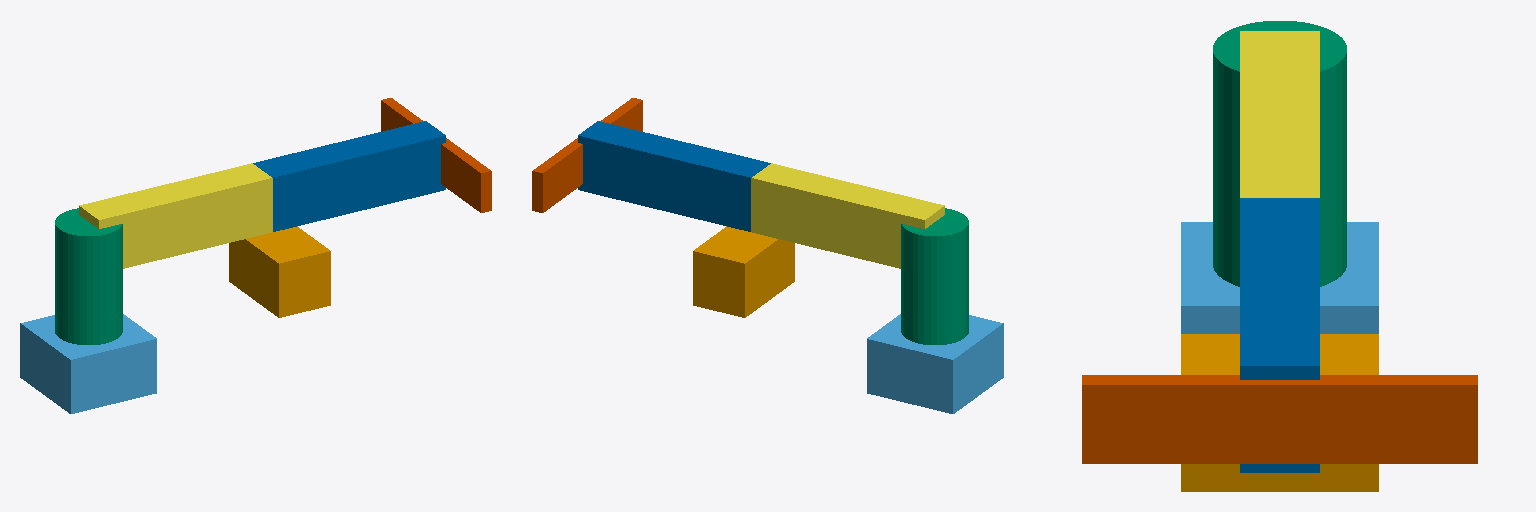
robot.urdf — robot:
<?xml version="1.0"?>
<robot name="robot" xmlns:xacro="http://www.ros.org/wiki/xacro">

  <!-- Used for fixing robot to Gazebo 'base_link' -->
  <link name="world"/>

 <!-- ARM DEFINITION STARTS HERE -->
  <!-- Joint: This will attach the arm to the base_link -->
  <joint name="world_to_base" type="fixed">
    <origin rpy="0 0 0" xyz="0 0 0"/>
    <parent link="world"/>
    <child  link="base_link"/>
  </joint>

    <!-- base of the arm -->
    <link name="base_link">
        <inertial>
            <mass value="0.05"/>
            <origin rpy="0 0 0" xyz="0 0 0"/>
            <inertia ixx="0.000021667" ixy="0" ixz="0" iyy="0.000021667" iyz="0" izz="0.000021667"/>
        </inertial>
        <collision>
            <origin rpy="0 0 0 " xyz="0 0 0.015" />
            <geometry>
                <box size="0.05 0.05 0.03" />
            </geometry>
        </collision>
        <visual>
            <origin rpy="0 0 0 " xyz="0 0 0.015" />
            <geometry>
                <box size="0.05 0.05 0.03" />
            </geometry>
        </visual>
    </link>
    <gazebo reference="base_link"> <!--Color for the arm_link_01 -->
      <material>Gazebo/Red</material>
    </gazebo>




    <!--Joint between base and link 1 -->
    <joint name="arm_joint_01" type="revolute">
        <axis xyz="0 0 1"/>
        <limit effort="1000.0" lower="-3.14" upper="3.14" velocity="0.2"/>
        <origin rpy="0 0 0" xyz="0 0 0.03"/>
        <parent link="base_link"/>
        <child link="arm_link_01"/>
    </joint>
    <!-- First link of the arm -->
    <link name="arm_link_01">
         <inertial>
            <mass value="0.0025"/>
            <origin rpy="0 0 0" xyz="0.0 0 0.0"/>
            <inertia ixx="0.0000050279" ixy="0" ixz="0" iyy="0.0000050279" iyz="0" izz="0.0000035225"/>
        </inertial>
        <collision>
            <origin rpy="0 0 0 " xyz="0 0 0.03" />
            <geometry>
                <cylinder radius="0.017" length="0.06"/>
            </geometry>
        </collision>
        <visual>
            <origin rpy="0 0 0 " xyz="0 0 0.03" />
            <geometry>
                <cylinder radius="0.017" length="0.06"/>
            </geometry>
        </visual>
    </link>
    <gazebo reference="arm_link_01"> <!--Color for the arm_link_01 -->
      <material>Gazebo/Orange</material>
    </gazebo>

    <!-- Joint 02: between link1 and link2  -->
    <joint name="arm_joint_02" type="revolute">
        <axis xyz="0 0 1"/>
        <limit effort="10000.0" lower="-0.1" upper="1.5707" velocity="0.2"/>
        <origin rpy="1.5707 0 0" xyz="0 0 0.05"/>
        <parent link="arm_link_01"/>
        <child link="arm_link_02"/>
    </joint>
    <!-- Second link of the arm -->
    <link name="arm_link_02">
         <inertial>
            <mass value="0.0025"/>
            <origin rpy="0 0 0" xyz="0.0 0 0.0"/>
            <inertia ixx="0.0000050279" ixy="0" ixz="0" iyy="0.0000050279" iyz="0" izz="0.0000035225"/>
        </inertial>
        <collision>
            <origin rpy="0 0 0 " xyz="0.05 0 0.0" />
            <geometry>
                <box size="0.1 0.03 0.02" />
            </geometry>
        </collision>
        <visual>
            <origin rpy="0 0 0 " xyz="0.05 0 0.0" />
            <geometry>
                <box size="0.1 0.03 0.02" />
            </geometry>
        </visual>
    </link>
    <gazebo reference="arm_link_02"> <!--Color for the arm_link_01 -->
      <material>Gazebo/Orange</material>
    </gazebo>

<!-- Joint 3: between link2 and link3 -->
    <joint name="arm_joint_03" type="revolute">
        <axis xyz="0  0  1"/>
        <limit effort="10000.0" lower="-0.1" upper="1.5707" velocity="0.2"/>
        <origin rpy="0 0 0" xyz="0.1 0 0"/>
        <parent link="arm_link_02"/>
        <child link="arm_link_03"/>
    </joint>

    <!-- 3rd link of the arm -->
    <link name="arm_link_03">
         <inertial>
            <mass value="0.0025"/>
            <origin rpy="0 0 0" xyz="0.0 0 0.0"/>
            <inertia ixx="0.0000050279" ixy="0" ixz="0" iyy="0.0000050279" iyz="0" izz="0.0000035225"/>
        </inertial>
        <collision>
            <origin rpy="0 0 0 " xyz="0.05 0 0" />
            <geometry>
                <box size="0.1 0.03 0.02" />
            </geometry>
        </collision>
        <visual>
            <origin rpy="0 0 0 " xyz="0.05 0 0" />
            <geometry>
                <box size="0.1 0.03 0.02" />
            </geometry>
        </visual>
    </link>
    <gazebo reference="arm_link_03"> <!--Color for the arm_link_01 -->
      <material>Gazebo/Orange</material>
    </gazebo>

    <!-- Joint 4: between link3 and link4 -->
    <joint name="arm_joint_04" type="revolute">
        <axis xyz="0 0 1"/>
        <limit effort="10000.0" lower="-1.8" upper="1.8" velocity="0.5"/>
        <origin rpy="0 1.570796 0" xyz="0.1 0 0.0"/>
        <parent link="arm_link_03"/>
        <child link="arm_link_04"/>
    </joint>

    <!-- Fourth link of the arm (base of the gripper)-->
    <link name="arm_link_04">
         <inertial>
            <mass value="0.0025"/>
            <origin rpy="0 0 0" xyz="0.0 0 0.0"/>
            <inertia ixx="0.0000050279" ixy="0" ixz="0" iyy="0.0000050279" iyz="0" izz="0.0000035225"/>
        </inertial>
        <collision>
            <origin rpy="0 0 0 " xyz="0 0 0.0" />
            <geometry>
                <box size="0.08 0.04 0.02  " />
            </geometry>
        </collision>
        <visual>
            <origin rpy="0 0 0 " xyz="0 0 0.00" />
            <geometry>
                 <box size="0.1 0.022 0.006 " />
            </geometry>
        </visual>
    </link>
    <gazebo reference="arm_link_04"> <!--Color for the arm_link_01 -->
      <material>Gazebo/Black</material>
    </gazebo>



<!-- GRIPPER STARTS HERE -->
 <!--  right Grip joint sub -->
  <joint name="right_grip_joint" type="prismatic">
    <parent link="arm_link_04"/>
    <child link="right_grip_link"/>
    <origin  xyz="0.0 0 0" rpy="0 -1.570796 0"/>
    <axis xyz="0 0 1"/>
    <limit velocity="0.4" effort="100000" lower="0" upper="0.05" />
  </joint>
  <!--  right Grip link sub -->
  <link name="right_grip_link">
    <collision>
  <origin xyz="0 0 0.005" rpy="1.5707 3.14159 3.14159"/>
      <geometry>
        <mesh filename="package://two_wheels_description/meshes/chain_link_grip_r.stl" scale="0.001 0.001 0.001"/>
      </geometry>
    </collision>

    <visual>
      <origin xyz="0 0 0.005" rpy="1.5707 3.14159 3.14159"/>
      <geometry>
        <mesh filename="package://two_wheels_description/meshes/chain_link_grip_r.stl" scale="0.0005 0.0005 0.0005"/>
      </geometry>
    </visual>

    <inertial>
      <origin xyz="0 0 0" />
      <mass value="0.0001" />
      <inertia ixx="0.001" ixy="0.0" ixz="0.0"
               iyy="0.001" iyz="0.0"
               izz="0.001" />
    </inertial>
  </link>
  <gazebo reference="right_grip_link"> <!--Color  -->
      <material>Gazebo/Gold</material>
    </gazebo>


<!--  LEFT Grip joint -->
  <joint name="left_grip_joint" type="prismatic">
    <parent link="arm_link_04"/>
    <child link="left_grip_link"/>
    <origin xyz="0.0 0.0 0" rpy="3.14159 -1.570796 0"/>
    <axis xyz="0 0 1"/>
    <limit velocity="0.4" effort="100000" lower="0" upper="0.05" />
</joint>
<!--  Grip link -->
  <link name="left_grip_link">
    <collision>
     <origin xyz="0 0 0.005" rpy="1.5707 0 0 "/>    <!-- 'x' value indicates aperture of gripper -->
      <geometry>
        <mesh filename="package://two_wheels_description/meshes/chain_link_grip_l.stl" scale="0.001 0.001 0.001"/>
      </geometry>
    </collision>

    <visual>
     <origin xyz="0 0 0.005" rpy="1.5707 0 0 "/>
      <geometry>
        <mesh filename="package://two_wheels_description/meshes/chain_link_grip_l.stl" scale="0.0005 0.0005 0.0005"/>
      </geometry>
    </visual>

    <inertial>
      <origin xyz="0 0 0" />
      <mass value="0.0001" />
      <inertia ixx="0.001" ixy="0.0" ixz="0.0"
               iyy="0.001" iyz="0.0"
               izz="0.001" />
    </inertial>
  </link>
   <gazebo reference="left_grip_link"> <!--Color  -->
      <material>Gazebo/Gold</material>
    </gazebo>



<!-- Transmission 1 -->
  <transmission name="arm_joint_01_trans">
    <type>transmission_interface/SimpleTransmission</type>
    <joint name="arm_joint_01">
      <hardwareInterface>hardware_interface/EffortJointInterface</hardwareInterface>
    </joint>
    <actuator name="motor1">
      <hardwareInterface>hardware_interface/EffortJointInterface</hardwareInterface>
      <mechanicalReduction>1</mechanicalReduction>
    </actuator>
  </transmission>


<!-- Transmission 2 -->
  <transmission name="arm_joint_02_trans">
    <type>transmission_interface/SimpleTransmission</type>
    <joint name="arm_joint_02">
      <hardwareInterface>hardware_interface/EffortJointInterface</hardwareInterface>
    </joint>
    <actuator name="motor2">
      <hardwareInterface>hardware_interface/EffortJointInterface</hardwareInterface>
      <mechanicalReduction>1</mechanicalReduction>
    </actuator>
  </transmission>

  <!-- Transmission 3 -->
  <transmission name="arm_joint_03_trans">
    <type>transmission_interface/SimpleTransmission</type>
    <joint name="arm_joint_03">
      <hardwareInterface>hardware_interface/EffortJointInterface</hardwareInterface>
    </joint>
    <actuator name="motor3">
      <hardwareInterface>hardware_interface/EffortJointInterface</hardwareInterface>
      <mechanicalReduction>1</mechanicalReduction>
    </actuator>
  </transmission>

<!-- Transmission 4 -->
  <transmission name="arm_joint_04_trans">
    <type>transmission_interface/SimpleTransmission</type>
    <joint name="arm_joint_04">
      <hardwareInterface>hardware_interface/EffortJointInterface</hardwareInterface>
    </joint>
    <actuator name="motor4">
      <hardwareInterface>hardware_interface/EffortJointInterface</hardwareInterface>
      <mechanicalReduction>1</mechanicalReduction>
    </actuator>
  </transmission>

<!-- Transmission 5 -->
  <transmission name="left_grip_tran">
    <type>transmission_interface/SimpleTransmission</type>
    <joint name="left_grip_joint">
      <hardwareInterface>hardware_interface/EffortJointInterface</hardwareInterface>
    </joint>
    <actuator name="motor5">
      <hardwareInterface>hardware_interface/EffortJointInterface</hardwareInterface>
      <mechanicalReduction>1</mechanicalReduction>
    </actuator>
  </transmission>


<!-- Transmission 6 -->
  <transmission name="right_grip_tran">
    <type>transmission_interface/SimpleTransmission</type>
    <joint name="right_grip_joint">
      <hardwareInterface>hardware_interface/EffortJointInterface</hardwareInterface>
    </joint>
    <actuator name="motor6">
      <hardwareInterface>hardware_interface/EffortJointInterface</hardwareInterface>
      <mechanicalReduction>1</mechanicalReduction>
    </actuator>
</transmission>


  <!-- XXXXXXXXXXXXXXXXXXXXXXXXXXXXXX
  Simulation of a camera:
  XXXXXXXXXXXXXXXXXXXXXXXXXXXXX-->
  <joint name="camera1_joint"  type="revolute">
        <axis xyz="0 1 0"/>
        <limit effort="100000.0" lower="-0.8" upper="0.3" velocity="0.2"/>
         <origin xyz="0.11 0.0 0.04" rpy="0 0 0"/>
        <parent link="base_link"/>
         <child link="camera1_link"/>
    </joint>
 <!-- Camera -->
  <link name="camera1_link">
    <collision>
      <origin xyz="0 0 0" rpy="0 0 0"/>
      <geometry>
    <box size="0.03 0.05 0.03"/>
      </geometry>
    </collision>

    <visual>
      <origin xyz="0 0 0" rpy="0 0 0"/>
      <geometry>
        <box size="0.03 0.05 0.03"/>
      </geometry>
    </visual>
    <inertial>
      <mass value="0.04" />
      <origin xyz="0 0 0" rpy="0 0 0"/>
      <inertia ixx="0.000001" ixy="0" ixz="0" iyy="0.000001" iyz="0" izz="0.000001" />
    </inertial>
  </link>
  <gazebo reference="camera1_link"> <!--Color for the camera1_link -->
      <material>Gazebo/Black</material>
  </gazebo>

  <!-- Transmission camera -->
  <transmission name="camera1_tran">
    <type>transmission_interface/SimpleTransmission</type>
    <joint name="camera1_joint">
      <hardwareInterface>hardware_interface/EffortJointInterface</hardwareInterface>
    </joint>
    <actuator name="motor_camera1">
      <hardwareInterface>hardware_interface/EffortJointInterface</hardwareInterface>
      <mechanicalReduction>1</mechanicalReduction>
    </actuator>
  </transmission>
  <!-- Plugin for the camera -->
   <gazebo reference="camera1_link">
    <sensor type="camera" name="camera1">
      <update_rate>30.0</update_rate>
      <camera name="camera1">
        <horizontal_fov>1</horizontal_fov>
        <image>
          <width>640</width>
          <height>480</height>
          <format>R8G8B8</format>
        </image>
        <clip>
          <near>0.02</near>
          <far>300</far>
        </clip>
        <noise>
          <type>gaussian</type>
          <!-- Noise is sampled independently per pixel on each frame.
               That pixel's noise value is added to each of its color
               channels, which at that point lie in the range [0,1]. -->
          <mean>0.0</mean>
          <stddev>0.007</stddev>
        </noise>
      </camera>
      <plugin name="camera1_controller" filename="libgazebo_ros_camera.so">
        <alwaysOn>true</alwaysOn>
        <updateRate>0.0</updateRate>
        <cameraName>two_wheels_robot/camera1</cameraName>
        <imageTopicName>image_raw</imageTopicName>
        <cameraInfoTopicName>camera_info</cameraInfoTopicName>
        <frameName>camera_link</frameName>
        <hackBaseline>0.07</hackBaseline>
        <distortionK1>0.0</distortionK1>
        <distortionK2>0.0</distortionK2>
        <distortionK3>0.0</distortionK3>
        <distortionT1>0.0</distortionT1>
        <distortionT2>0.0</distortionT2>
      </plugin>
    </sensor>
  </gazebo>

<!-- ros_control Gazebo plugin -->
  <gazebo>
    <plugin name="gazebo_ros_control" filename="libgazebo_ros_control.so">
      <robotNamespace>/robot</robotNamespace>
      <robotSimType>gazebo_ros_control/DefaultRobotHWSim</robotSimType>
      <legacyModeNS>true</legacyModeNS>
    </plugin>
  </gazebo>


</robot>

--- What the picture shows (computed from the rendered views, not written in the file) ---
Views: 3 orthographic renders of the robot side by side, from view 1: azimuth 30°, elevation 25°; view 2: azimuth 150°, elevation 25°; view 3: azimuth 270°, elevation 25°.
Model robot with 9 links and 8 joints (5 revolute, 2 prismatic, 1 fixed), rooted at world, posed all joints at 0.
Links seen in each view (by area): view 1: arm_link_03, arm_link_02, base_link, arm_link_01, camera1_link, arm_link_04; view 2: arm_link_03, arm_link_02, base_link, arm_link_01, camera1_link, arm_link_04; view 3: arm_link_04, arm_link_03, arm_link_01, arm_link_02, base_link, camera1_link.
Link boxes in pixels (x1,y1,x2,y2): arm_link_03: (253,121,445,231); arm_link_02: (79,163,272,268); base_link: (20,314,156,413); arm_link_01: (55,208,122,344); camera1_link: (229,226,330,317); arm_link_04: (381,98,491,212); arm_link_03: (578,121,770,231); arm_link_02: (751,163,944,268); base_link: (867,314,1003,413); arm_link_01: (901,208,968,344); camera1_link: (693,226,794,317); arm_link_04: (532,98,642,212); arm_link_04: (1082,375,1477,463); arm_link_03: (1240,198,1319,472); arm_link_01: (1213,21,1346,286); arm_link_02: (1240,31,1319,197); base_link: (1181,222,1378,333); camera1_link: (1181,334,1378,491).
Bounding box of the posed robot: 0.228 × 0.1 × 0.095 m (x, y, z).
Meshes: 2 distinct files referenced, 0 mesh visuals loaded (none loaded); not drawn: 2 (reference not matched to a file when rendering).